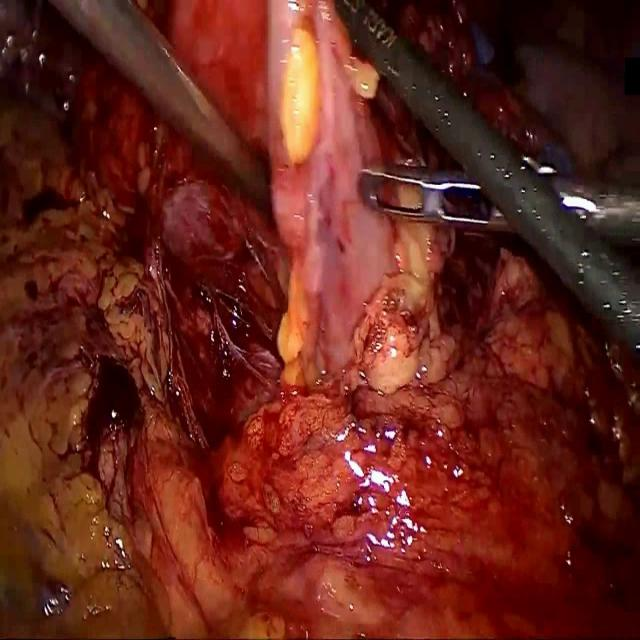surgical-area: (364, 0, 640, 183)
surgical-tool: (334, 0, 640, 362), (43, 0, 272, 220), (356, 159, 640, 248)
